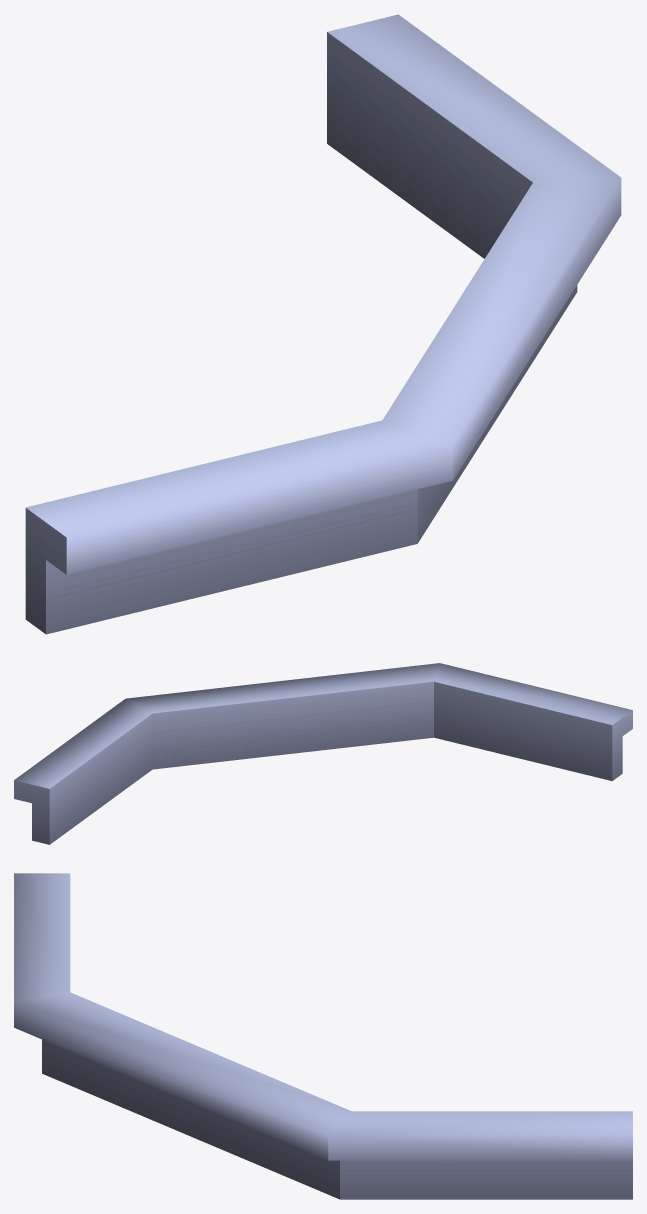
Rendered from border-corner-diagonal.glb.
3 renders of one model, top to bottom at view 1: azimuth 30°, elevation 25°; view 2: azimuth 150°, elevation 25°; view 3: azimuth 270°, elevation 25°, orthographic. The views are drawn at different scales.
Visible parts, largest first — view 1: border-corner-diagonal; view 2: border-corner-diagonal; view 3: border-corner-diagonal.
Part boxes in pixels (x1=…): border-corner-diagonal: x1=25, y1=14, x2=621, y2=634; border-corner-diagonal: x1=14, y1=663, x2=632, y2=844; border-corner-diagonal: x1=14, y1=873, x2=632, y2=1199.
Bounding box in the file's own units: 2.2 × 0.3 × 2.2.
Materials: 1 (1 with a texture image).
